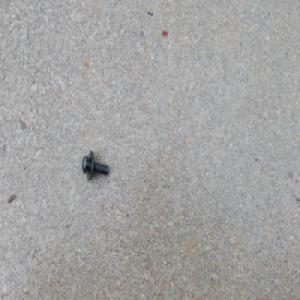BoltWasher: (81, 150, 109, 182)
